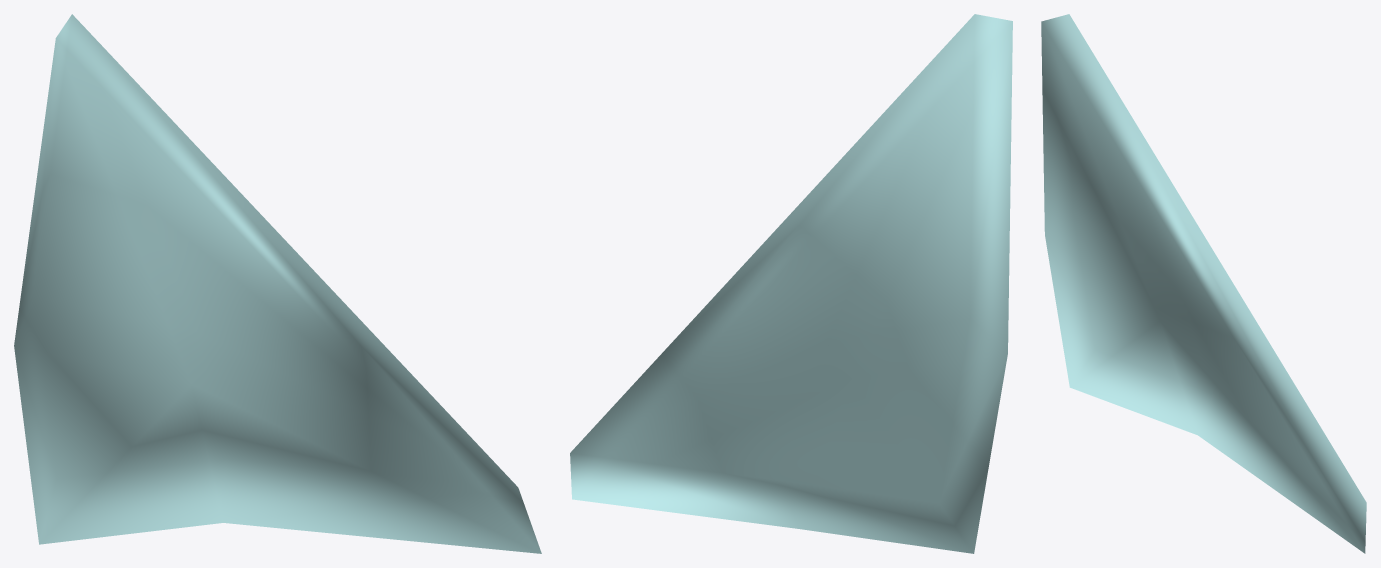
The model's file is Shard_1_S.fbx.
The picture shows the model from 3 angles, left to right: view 1: azimuth 30°, elevation 25°; view 2: azimuth 150°, elevation 25°; view 3: azimuth 330°, elevation 25°; orthographic projection. The views are drawn at different scales.
Visible parts, largest first — view 1: Shard_Sharp_1; view 2: Shard_Sharp_1; view 3: Shard_Sharp_1.
Part boxes in pixels (x1,y1,x2,y2): Shard_Sharp_1: [14, 14, 541, 553]; Shard_Sharp_1: [570, 14, 1012, 553]; Shard_Sharp_1: [1041, 14, 1366, 553].
Size of the model in its own units: 841 by 1033 by 161.
